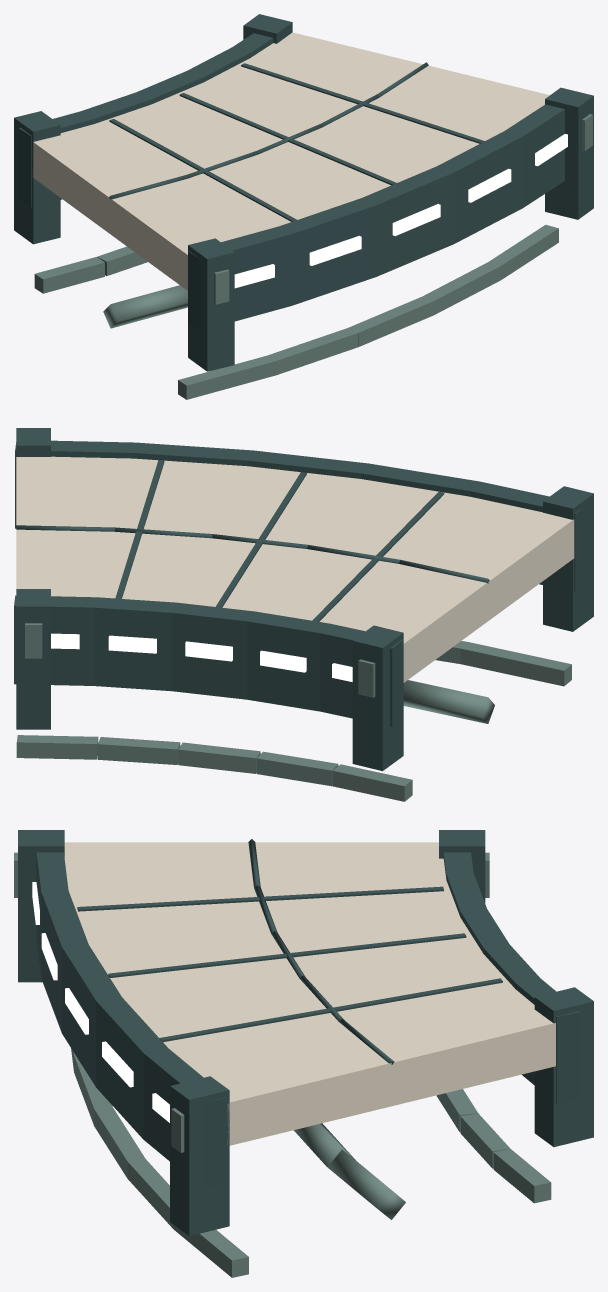
File: Curve_30_lab.glb
3 views of the same model, one above another, from view 1: azimuth 30°, elevation 25°; view 2: azimuth 150°, elevation 25°; view 3: azimuth 270°, elevation 25° (orthographic). The views are drawn at different scales.
Parts seen in each view (by area): view 1: Curve_30; view 2: Curve_30; view 3: Curve_30.
Part boxes in pixels (x1,y1,x2,y2): Curve_30: (14, 14, 593, 399); Curve_30: (14, 428, 593, 801); Curve_30: (14, 830, 593, 1277).
Size of the model in its own units: 4.69 by 1.52 by 4.24.
